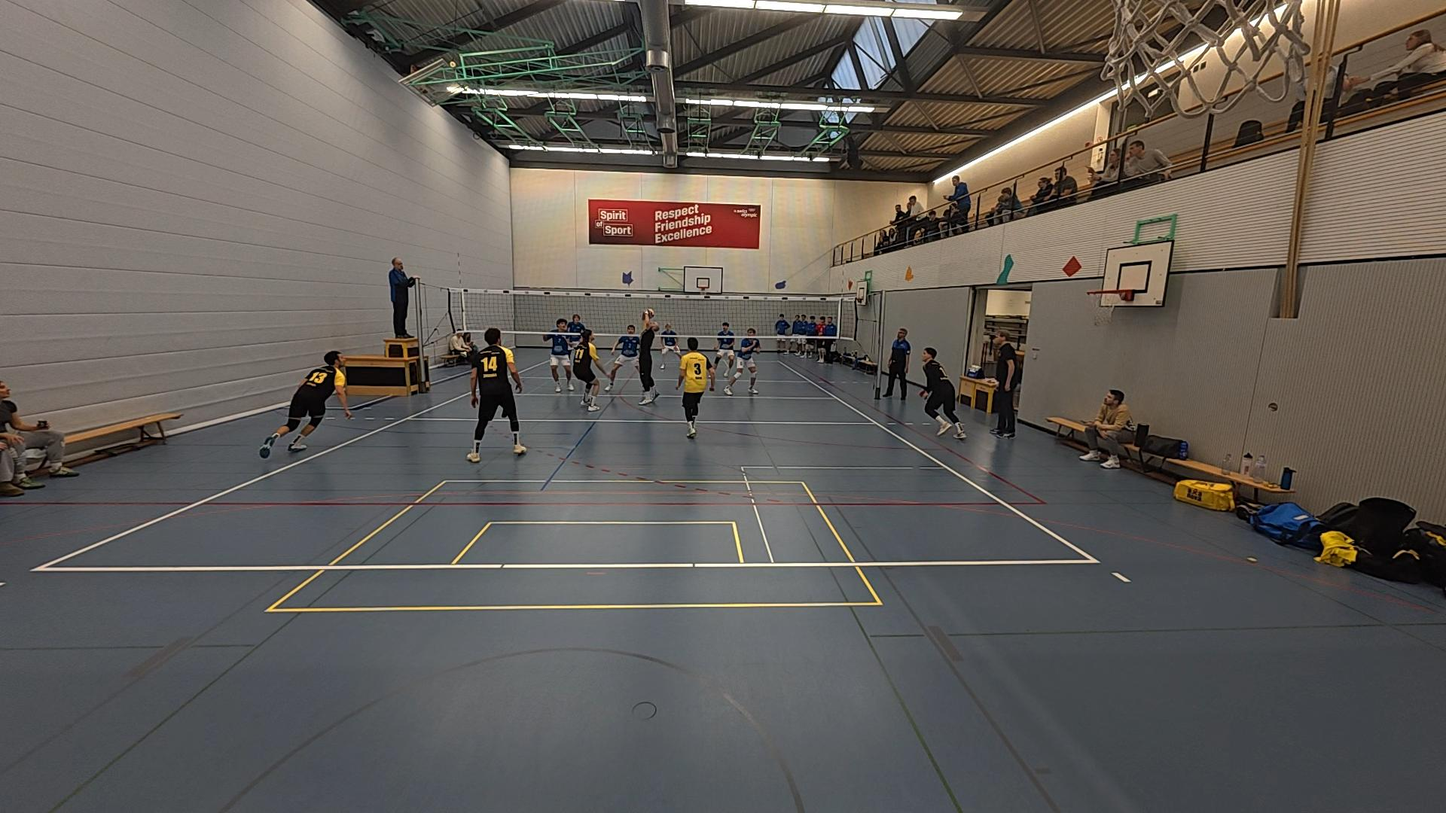Player: (259, 351, 353, 458), (468, 327, 526, 463), (674, 338, 712, 439), (572, 329, 602, 412), (606, 323, 641, 390), (545, 316, 573, 392), (712, 324, 740, 394), (733, 326, 761, 385), (656, 320, 683, 359), (560, 312, 587, 342)
Set: (633, 310, 663, 408)
ball: (901, 265, 916, 280), (645, 306, 657, 318)
